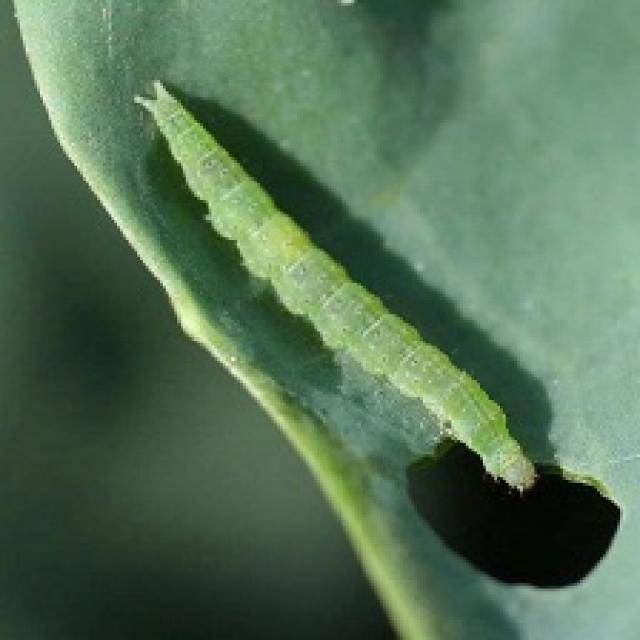Cabbage-worm: (137, 54, 541, 501)
